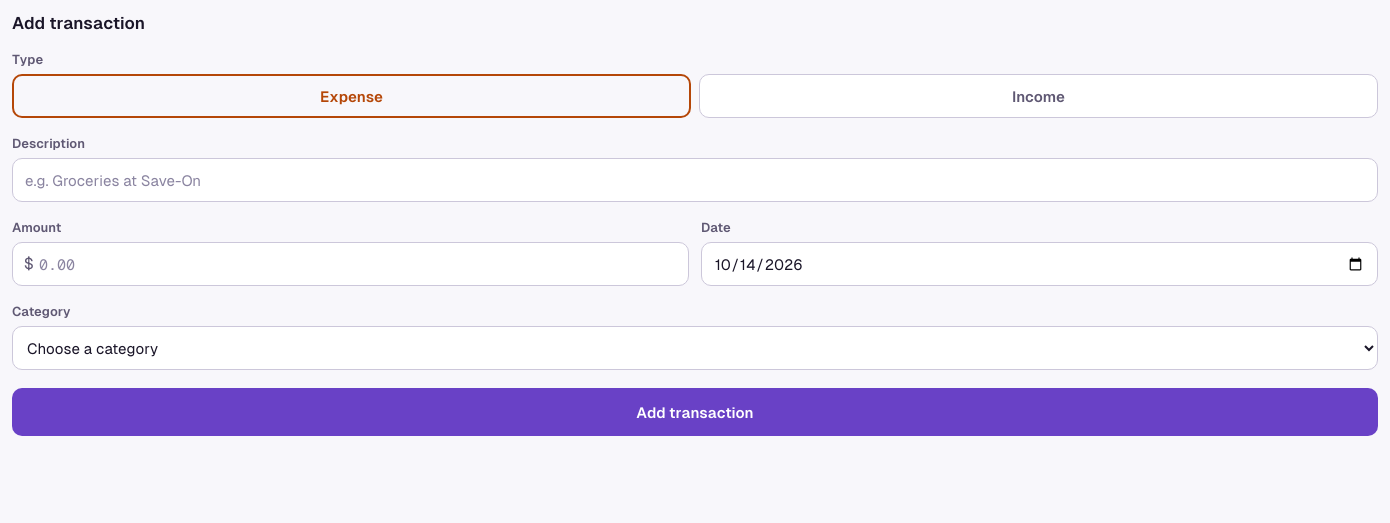
TransactionForm › rejects a zero amount
The width and height of the screenshot is (1390, 523).
Type "0" into the field labelled "Amount" at (350,264), box [12,242,689,286]
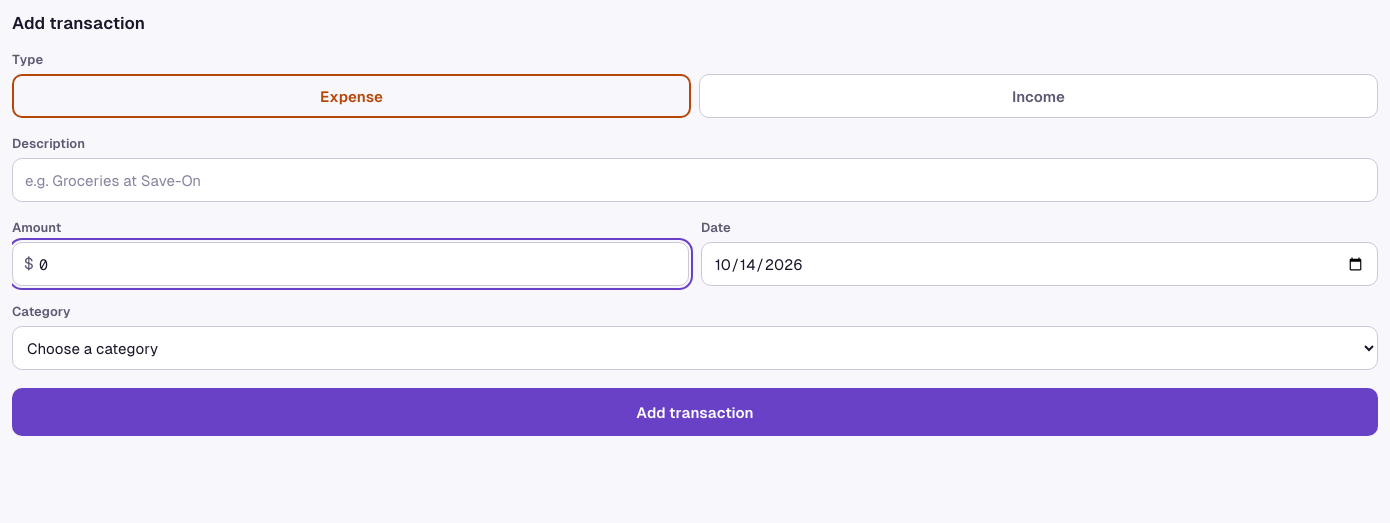
Click the button "Add transaction" at (695,412), box [12,388,1378,436]
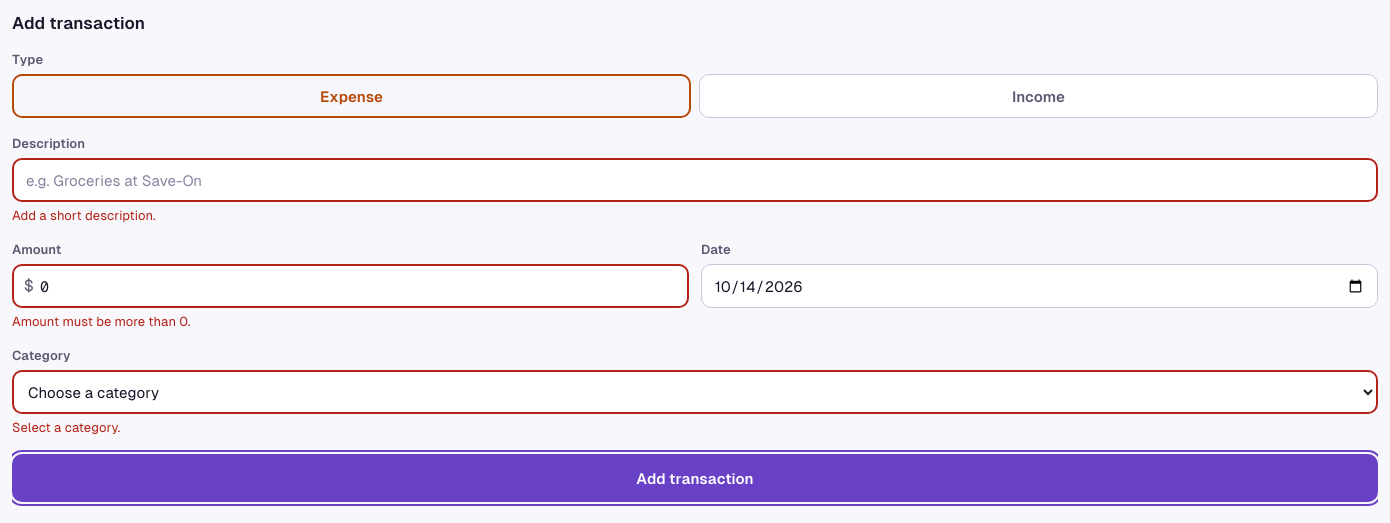
expect the text "Amount must be more than 0." is shown: met, box [12,314,190,329]
